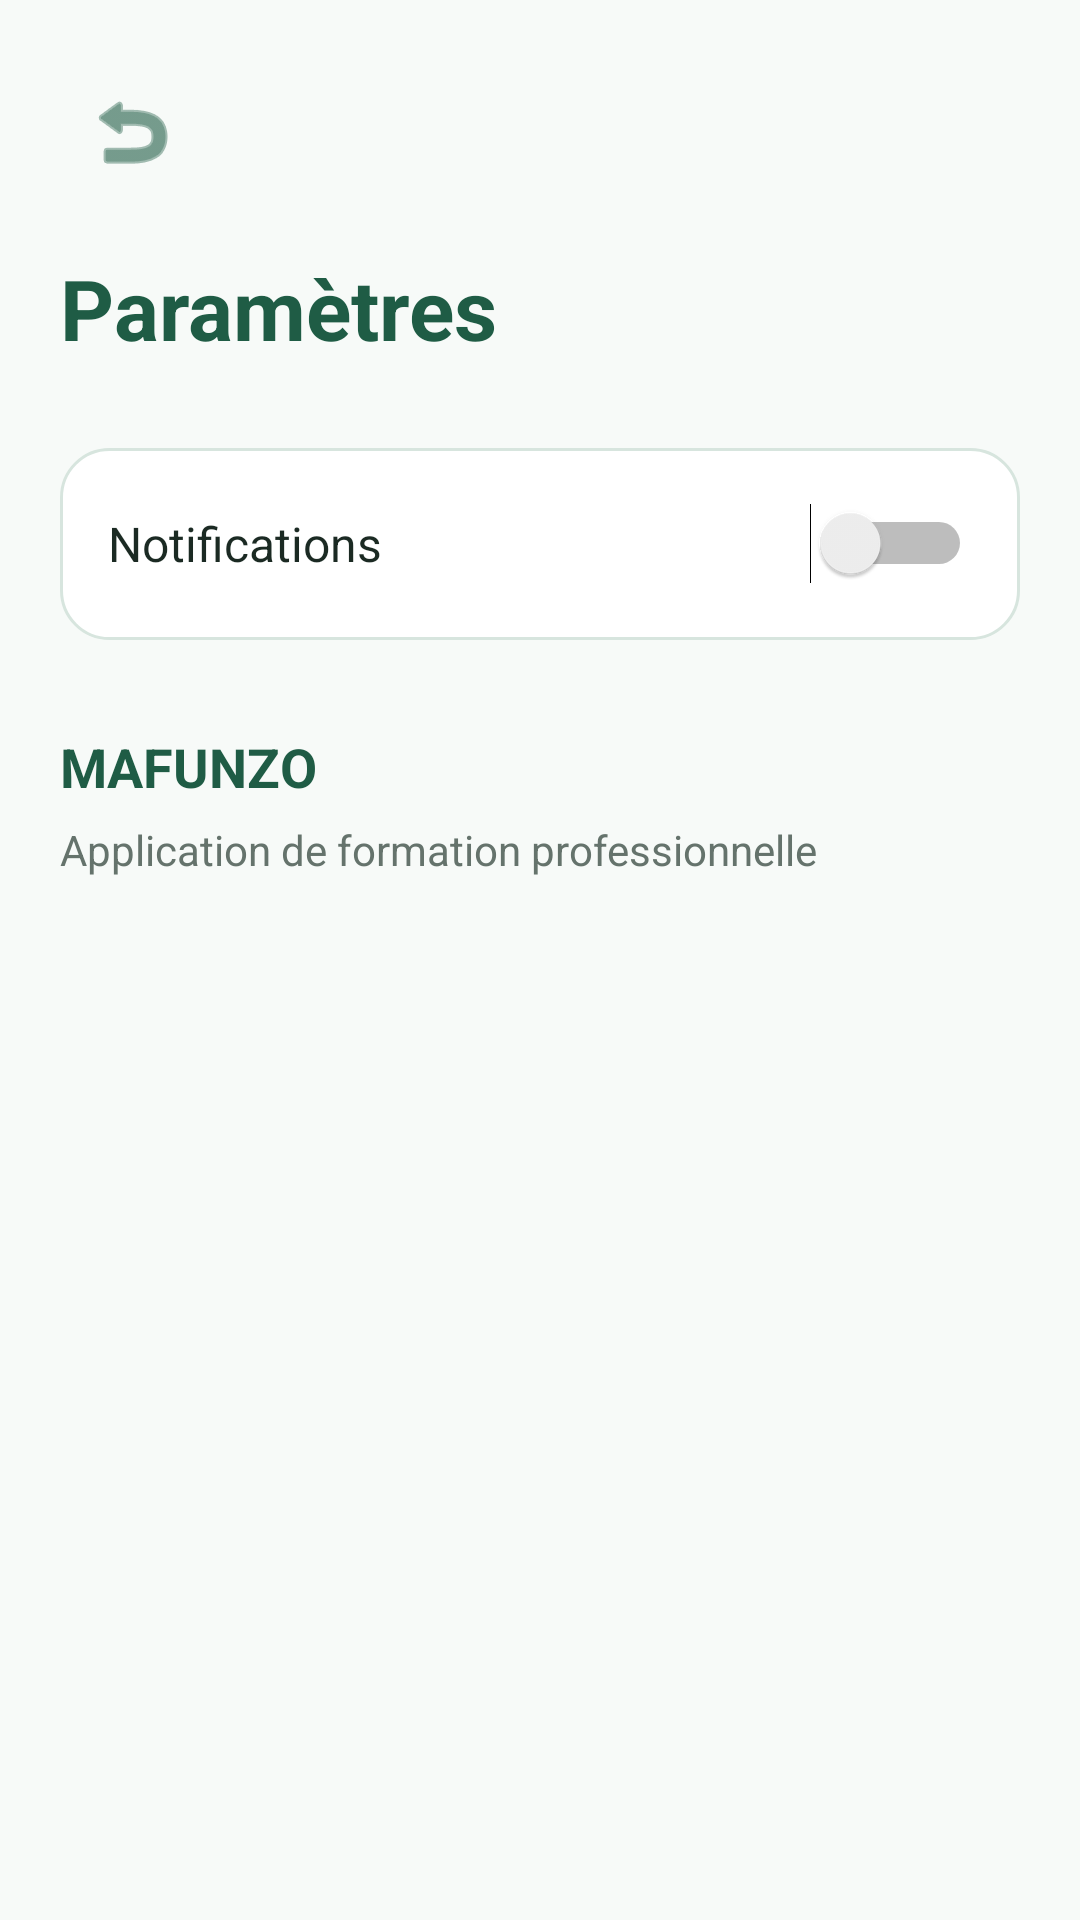

Icons on this 1080×1920 Android screen, each with the point to tap as [x,y]:
Retour: [133,132]
